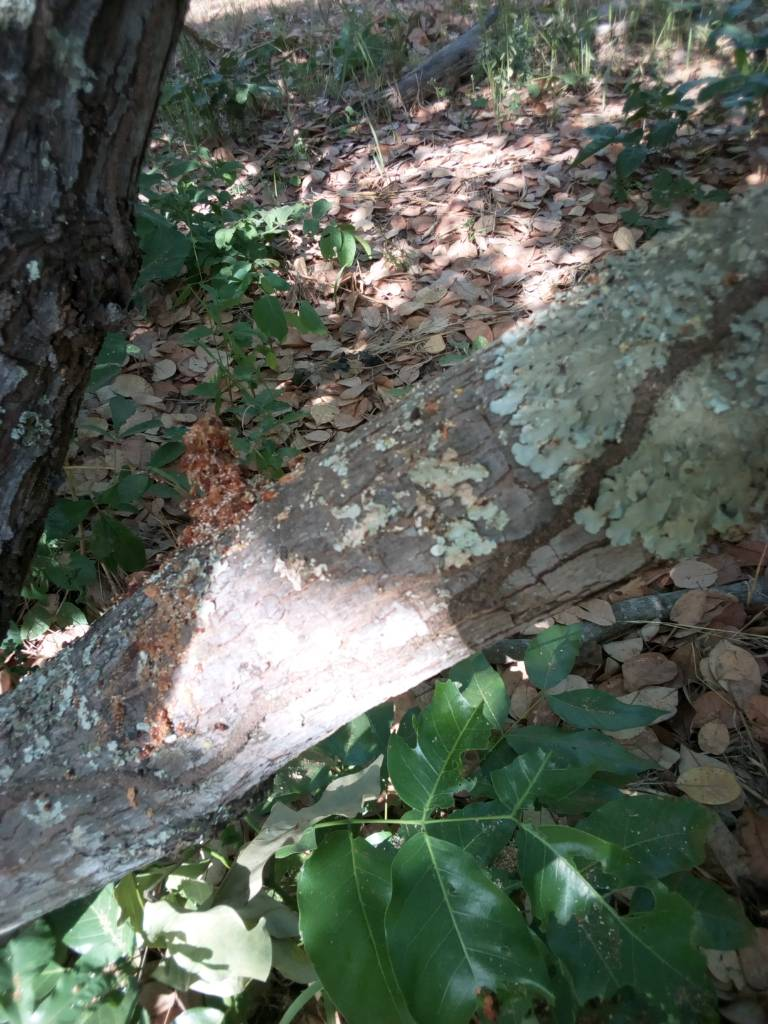Apate terebrans: (94, 414, 269, 771)
